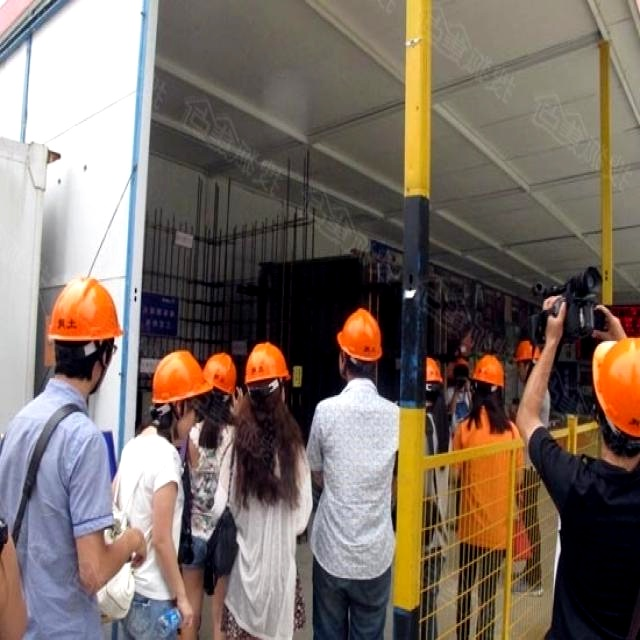Con_Casco: (337, 311, 382, 377)
Sin_Chaleco: (309, 394, 396, 582)
